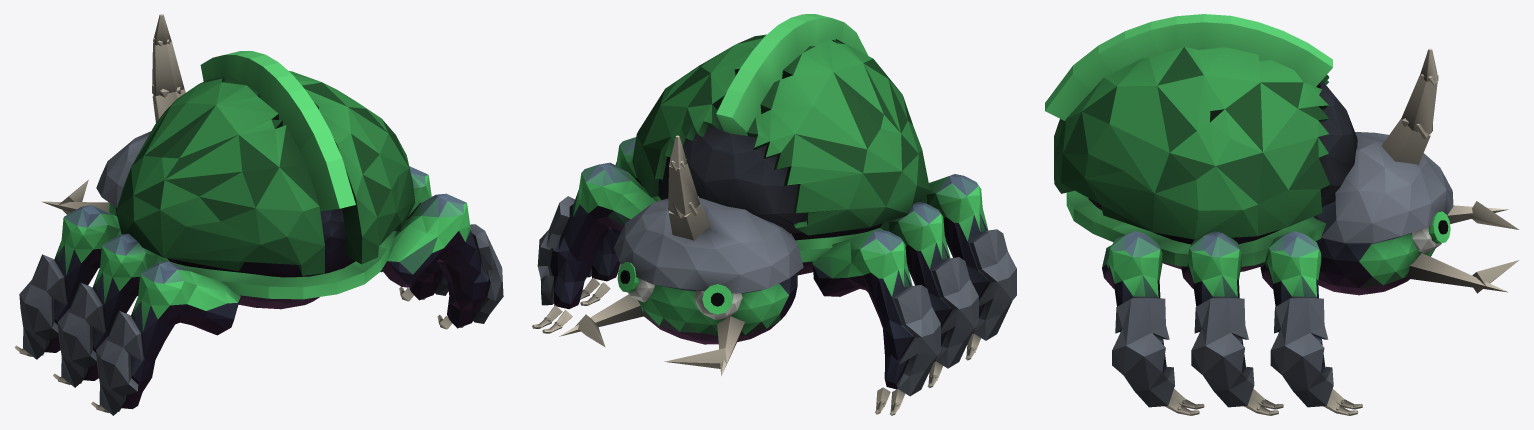
The model's file is Tank.fbx.
3 renders of one model, left to right at view 1: azimuth 30°, elevation 25°; view 2: azimuth 150°, elevation 25°; view 3: azimuth 270°, elevation 25°, orthographic. The views are drawn at different scales.
Visible parts, largest first — view 1: Torso, Seam_Glow, Leg_5, Leg_6, Leg_1, Leg_3, Head, Leg_4; view 2: Torso, Head, Leg_1, Leg_2, Leg_5, Leg_3, Seam_Glow, Leg_4, Eyes_Glow; view 3: Torso, Head, Seam_Glow, Leg_6, Leg_2, Leg_4, Eyes_Glow.
Part boxes in pixels (left/top/right/bottom): Torso: left=117, top=71, right=415, bottom=309; Seam_Glow: left=170, top=51, right=396, bottom=299; Leg_5: left=91, top=261, right=240, bottom=415; Leg_6: left=382, top=193, right=503, bottom=329; Leg_1: left=14, top=205, right=121, bottom=359; Leg_3: left=53, top=233, right=169, bottom=387; Head: left=41, top=14, right=185, bottom=216; Leg_4: left=399, top=166, right=448, bottom=301; Torso: left=632, top=34, right=930, bottom=275; Head: left=559, top=135, right=803, bottom=375; Leg_1: left=811, top=229, right=941, bottom=415; Leg_2: left=532, top=162, right=657, bottom=333; Leg_5: left=921, top=174, right=1016, bottom=360; Leg_3: left=880, top=202, right=978, bottom=387; Seam_Glow: left=655, top=14, right=882, bottom=262; Leg_4: left=580, top=137, right=643, bottom=305; Eyes_Glow: left=617, top=262, right=732, bottom=314; Torso: left=1054, top=47, right=1357, bottom=271; Head: left=1313, top=48, right=1519, bottom=295; Seam_Glow: left=1045, top=14, right=1332, bottom=266; Leg_6: left=1102, top=231, right=1204, bottom=415; Leg_2: left=1260, top=231, right=1362, bottom=415; Leg_4: left=1181, top=231, right=1283, bottom=415; Eyes_Glow: left=1428, top=179, right=1450, bottom=243.
Bounding box in the file's own units: 7.32 × 5.18 × 7.25.
